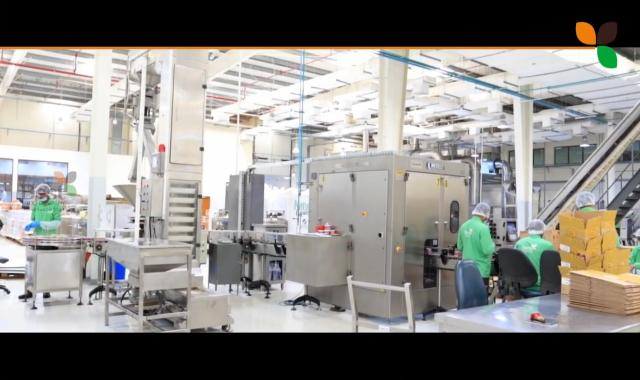hairnet: (576, 192, 596, 210), (473, 200, 489, 221), (36, 182, 51, 198), (527, 220, 546, 231)
